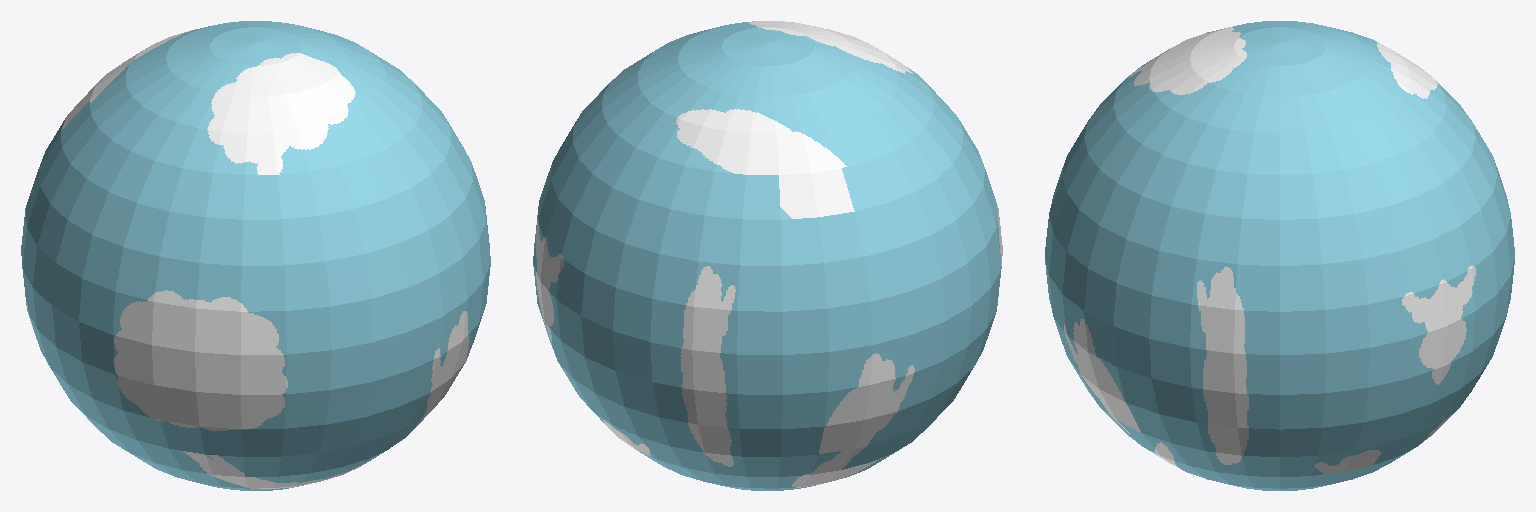
3 views of the same model, side by side, from view 1: azimuth 30°, elevation 25°; view 2: azimuth 150°, elevation 25°; view 3: azimuth 270°, elevation 25° (orthographic).
Parts seen in each view (by area): view 1: Sphere; view 2: Sphere; view 3: Sphere.
Part boxes in pixels (bbox=[...]): Sphere: bbox=[21, 21, 490, 490]; Sphere: bbox=[533, 21, 1002, 490]; Sphere: bbox=[1045, 21, 1514, 490].
Size of the model in its own units: 20 by 20 by 20.
Materials: 1 (1 with a texture image).